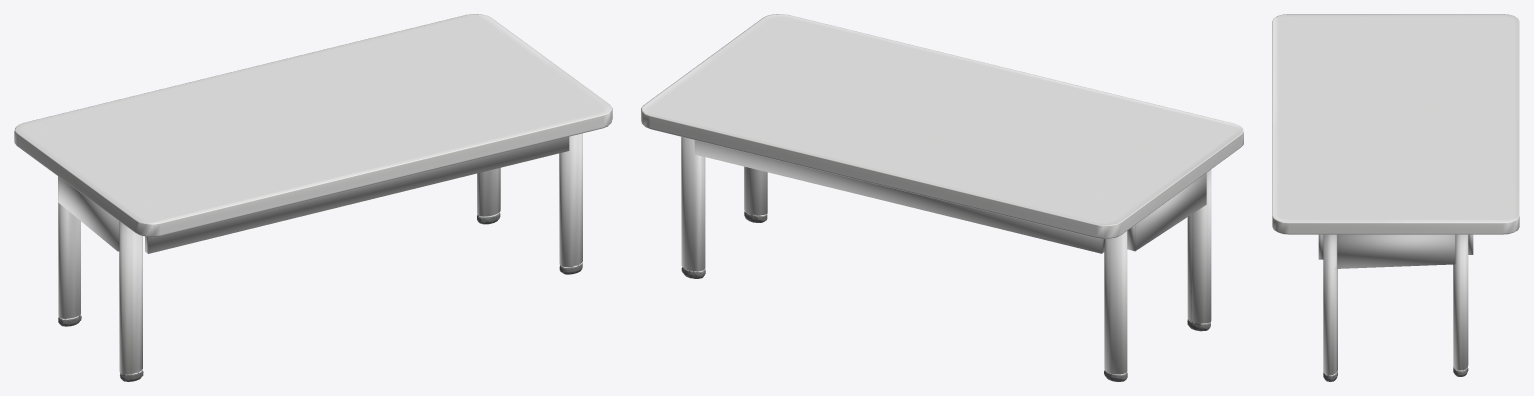
File: white_table.glb
The picture shows the model from 3 angles, left to right: view 1: azimuth 30°, elevation 25°; view 2: azimuth 150°, elevation 25°; view 3: azimuth 270°, elevation 25°; orthographic projection. The views are drawn at different scales.
Parts seen in each view (by area): view 1: tripo_node_0b22ef47-ddaf-46aa-99ee-747b119de095; view 2: tripo_node_0b22ef47-ddaf-46aa-99ee-747b119de095; view 3: tripo_node_0b22ef47-ddaf-46aa-99ee-747b119de095.
Part boxes in pixels (left/top/right/bottom): tripo_node_0b22ef47-ddaf-46aa-99ee-747b119de095: left=14, top=14, right=612, bottom=381; tripo_node_0b22ef47-ddaf-46aa-99ee-747b119de095: left=641, top=14, right=1243, bottom=381; tripo_node_0b22ef47-ddaf-46aa-99ee-747b119de095: left=1272, top=14, right=1519, bottom=381.
Size of the model in its own units: 1.1 by 0.4 by 0.55.
Materials: 1 (1 with a texture image).
